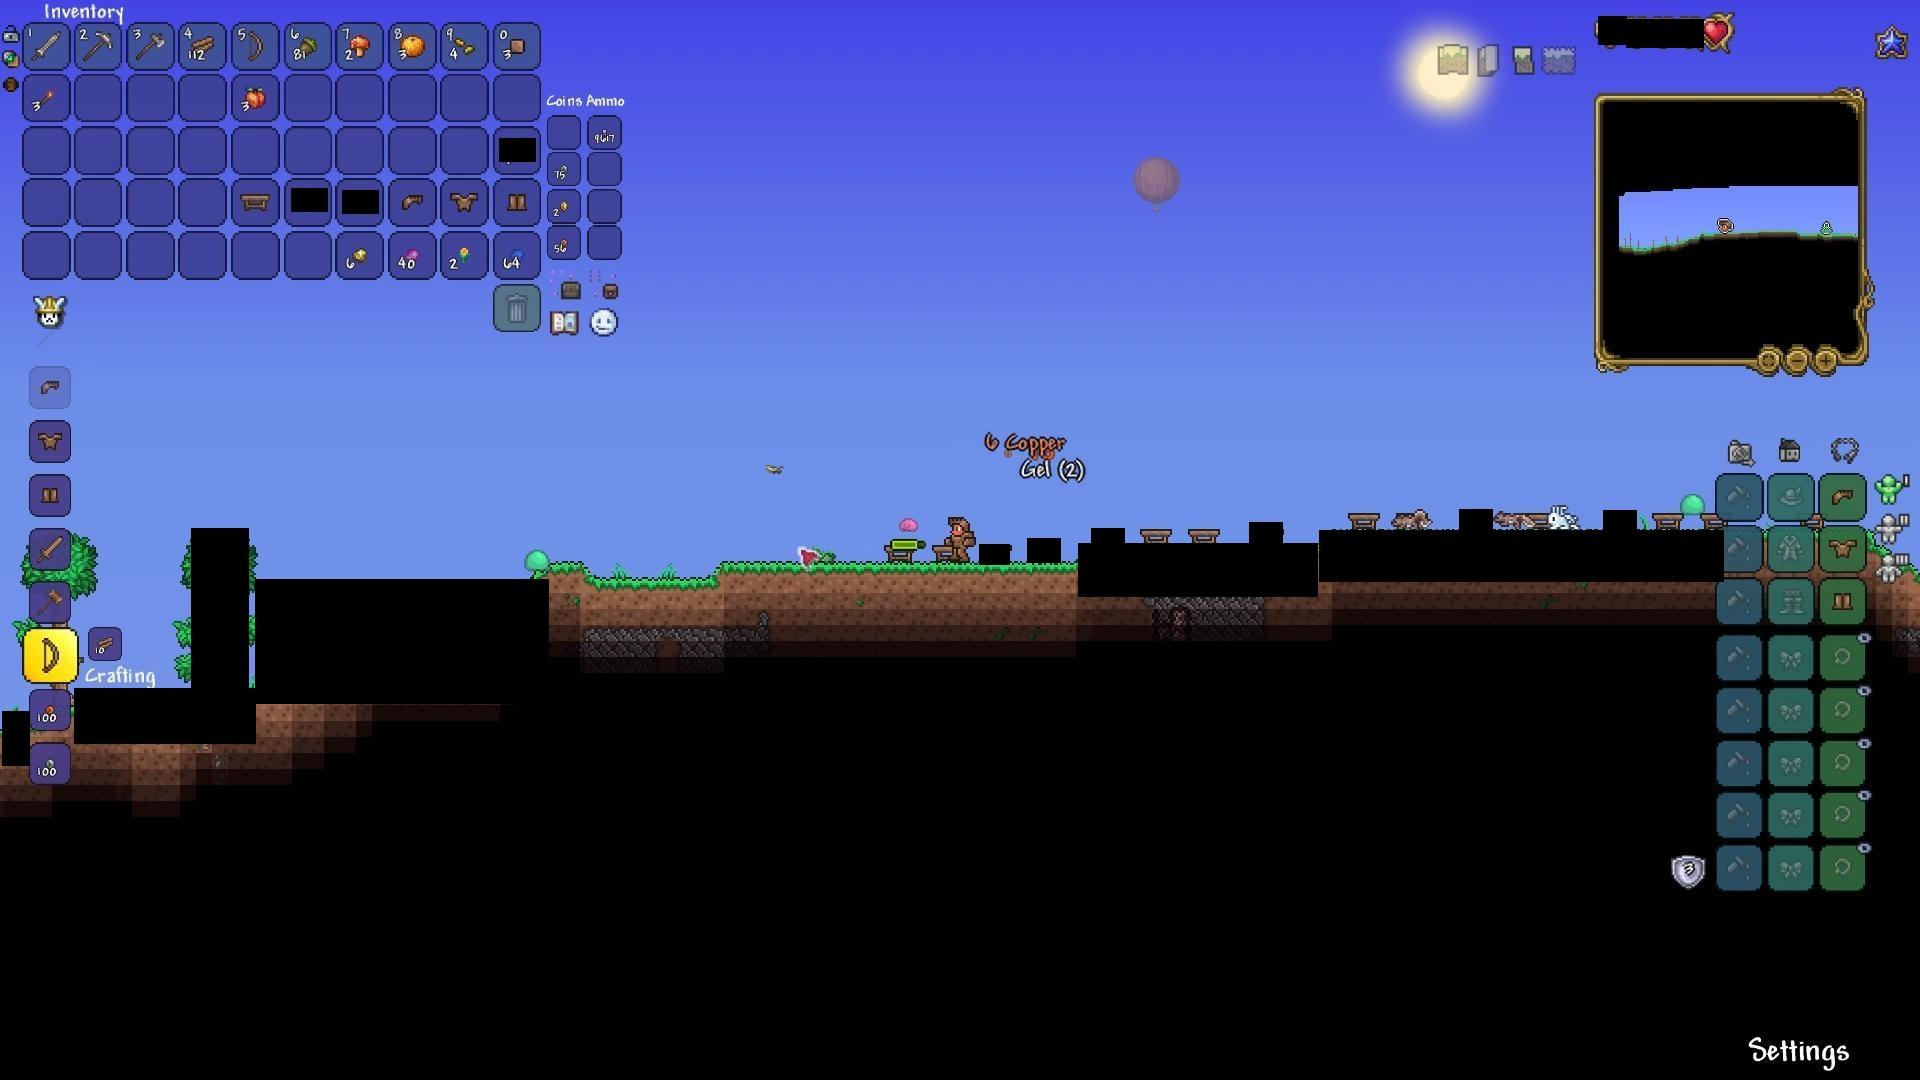breastplate: (34, 429, 65, 452), (1832, 538, 1861, 559), (448, 190, 477, 210)
dirt: (554, 562, 1075, 608)
heart: (1705, 18, 1731, 46)
helmet: (32, 375, 66, 404), (1829, 484, 1858, 509), (400, 189, 429, 214)
legs: (36, 483, 65, 508), (505, 186, 530, 214), (1832, 588, 1857, 616)
slime: (895, 509, 928, 537), (520, 541, 553, 568), (1683, 491, 1710, 520)
wood: (189, 34, 218, 59), (90, 632, 116, 655)
workbench: (236, 191, 273, 214), (1185, 524, 1218, 549), (1520, 506, 1553, 530), (1650, 508, 1683, 531), (1141, 526, 1174, 550), (1348, 513, 1381, 535), (928, 546, 955, 564)
